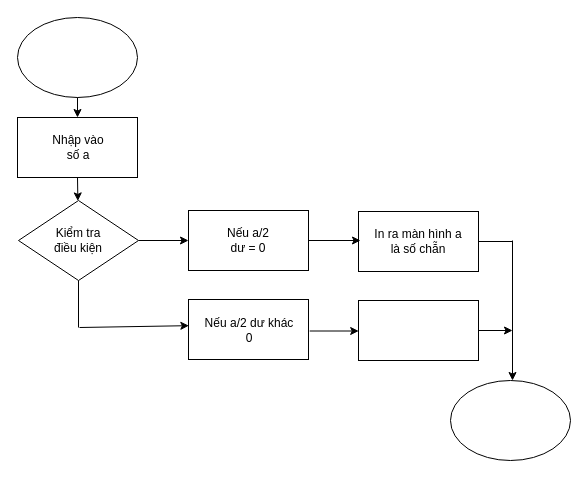
This 588x478 diagram has some shape labels left out. The shapes that lost their labels are listed below. From the top down, each one's box as (x1, y1, x2, y2) in pixels, then its label:
(16, 16, 138, 98): Bắt đầu chương trình
(358, 300, 478, 360): In ra màn hình a là số lẻ
(450, 380, 570, 460): Kết thúc chương trình
